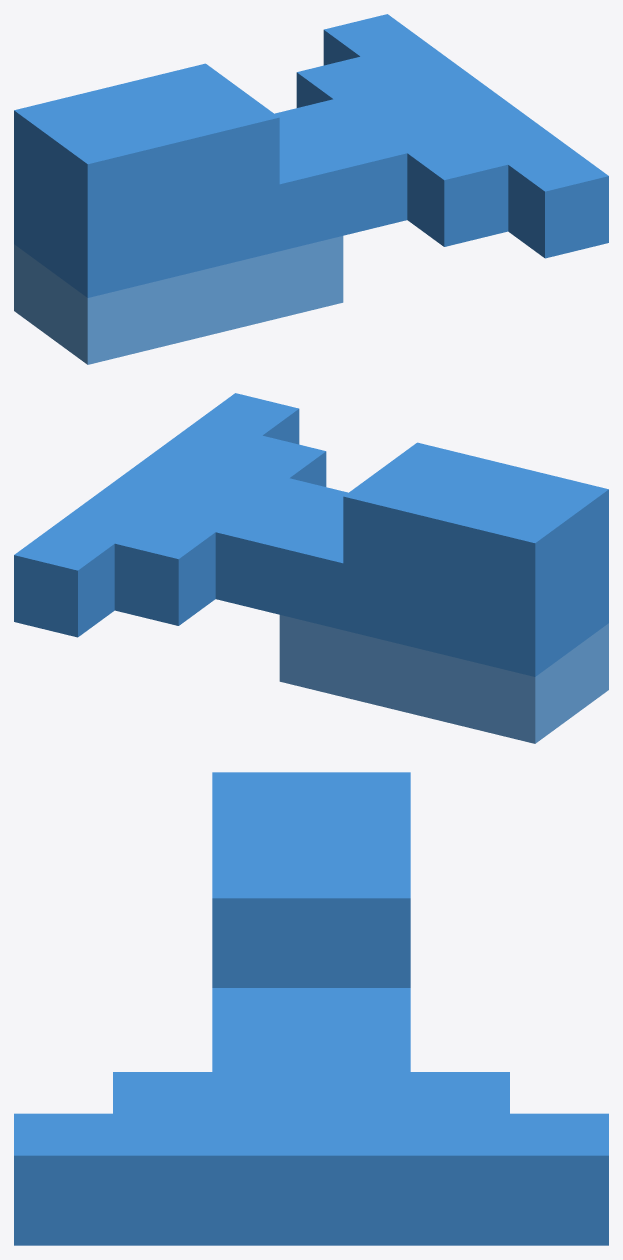
The model's file is relfiini_pyrsto.obj.
3 views of the same model, one above another, from view 1: azimuth 30°, elevation 25°; view 2: azimuth 150°, elevation 25°; view 3: azimuth 270°, elevation 25° (orthographic). The views are drawn at different scales.
Size of the model in its own units: 7 by 3 by 6.
Materials: 1 (1 with a texture image).
